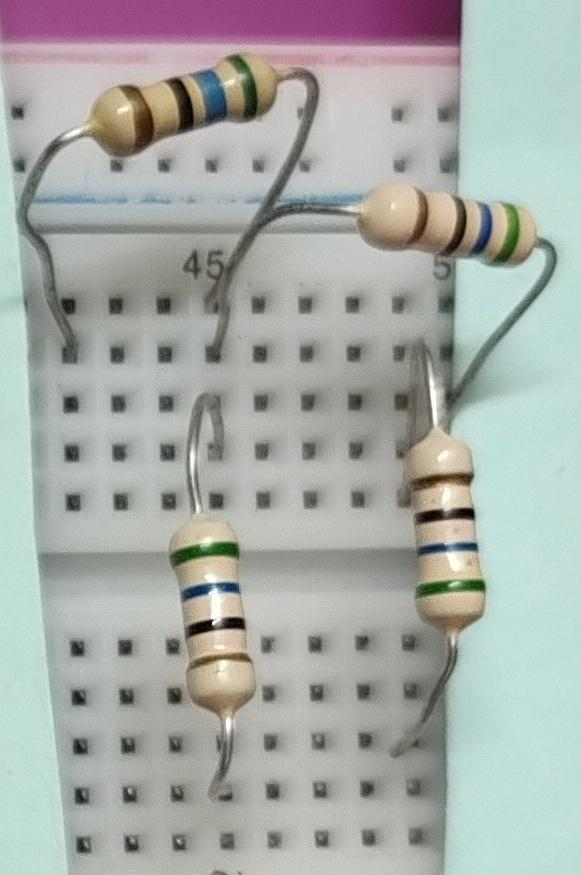resistor: (76, 42, 284, 160), (154, 504, 260, 722), (404, 424, 494, 644), (350, 174, 544, 276)
